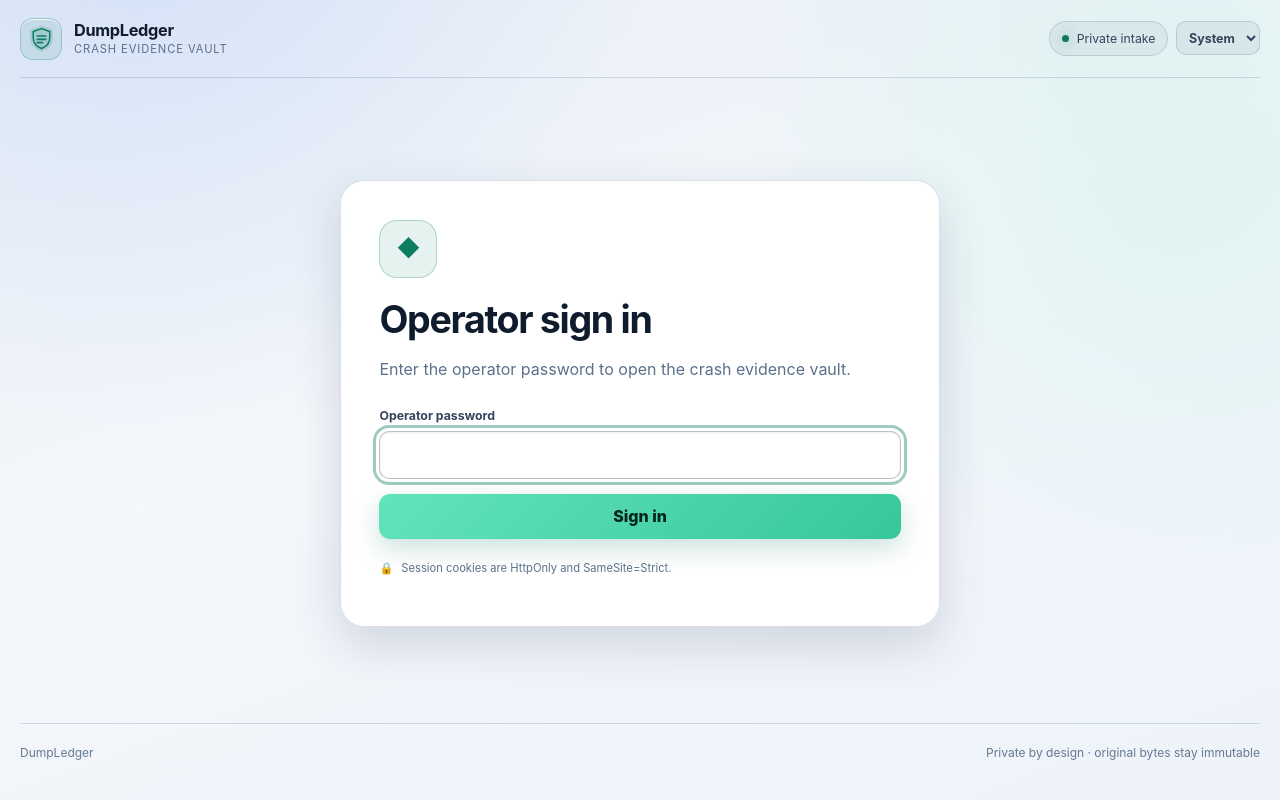
Test: deep links › redirects an anonymous deep link to /login and returns to the original route after sign-in
Expected: the heading "Operator sign in" is shown, x1=379 y1=297 x2=652 y2=342
Type "correct horse battery staple" into the password field labelled "Operator password" at (640, 455), box x1=379 y1=431 x2=901 y2=479
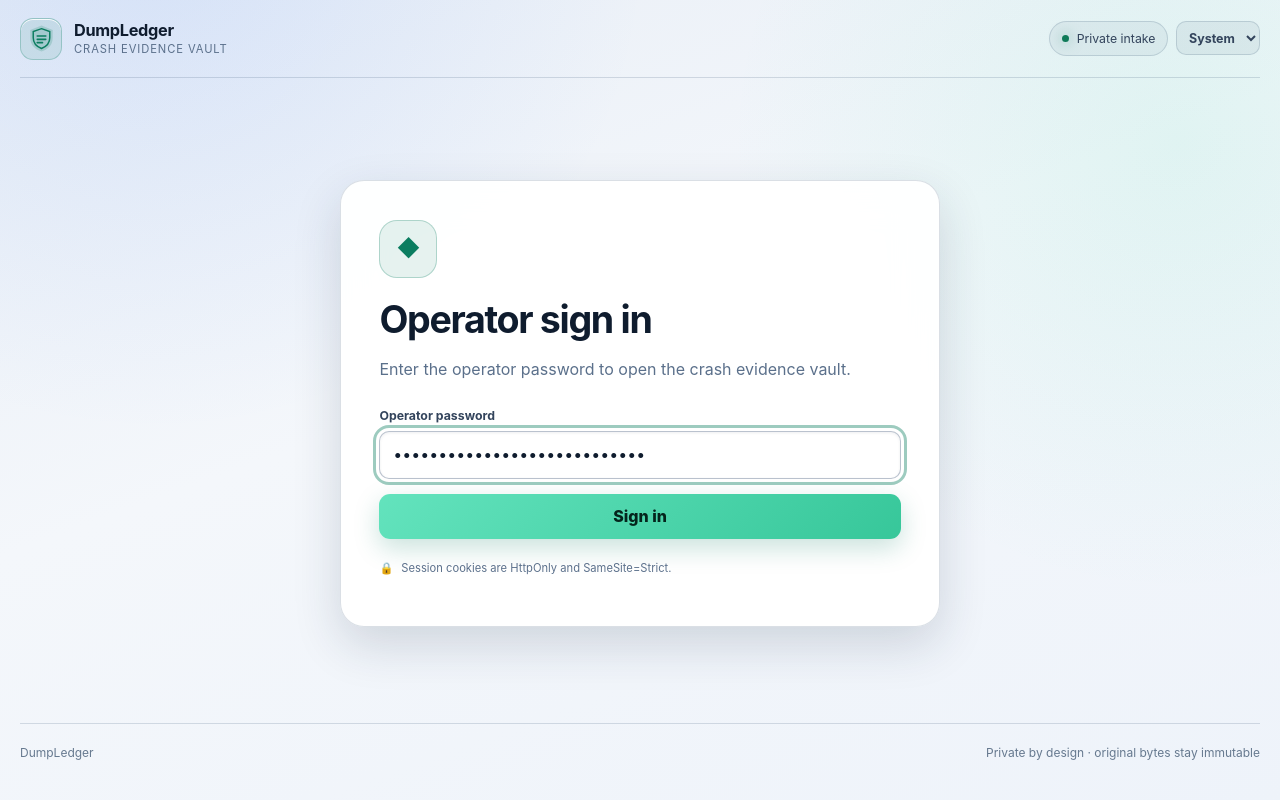
Click the button "Sign in" at (640, 516), box x1=379 y1=494 x2=901 y2=539
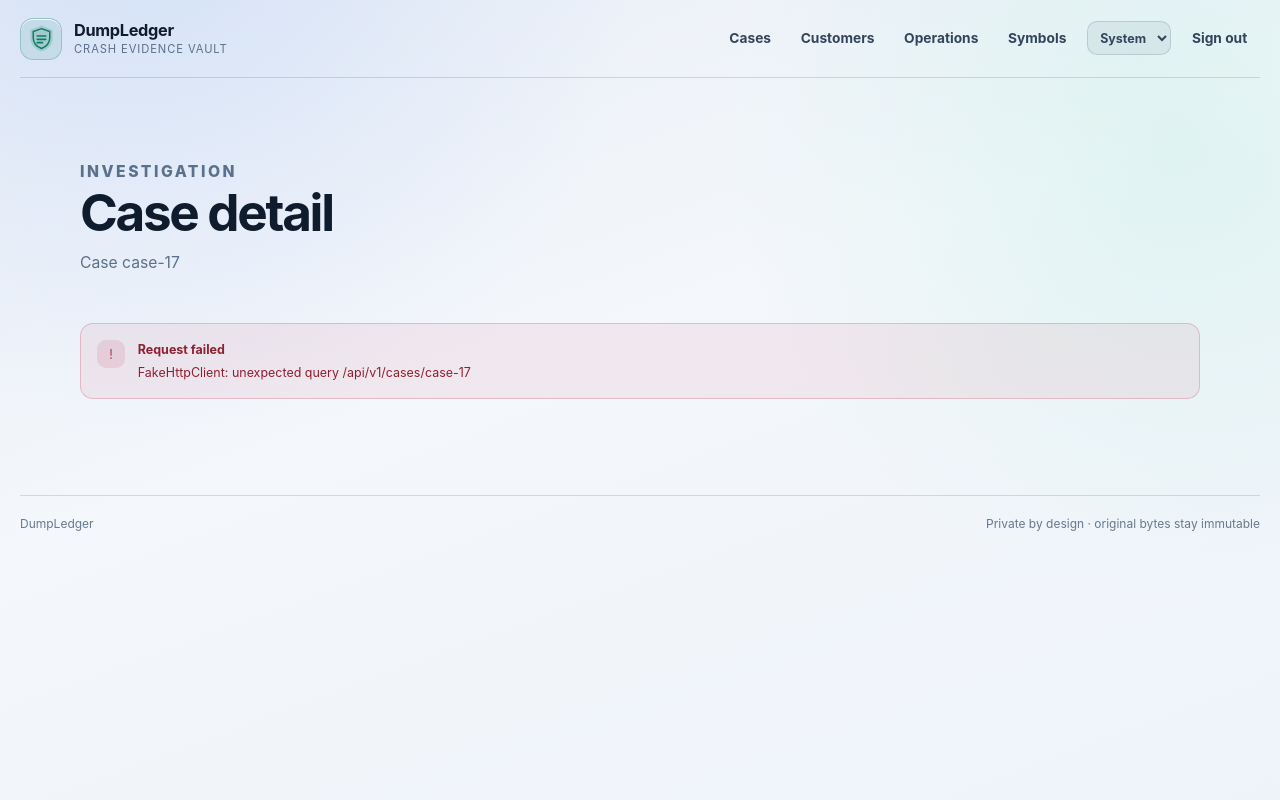
Now the heading "Case detail" is shown, box x1=80 y1=185 x2=333 y2=239
Now the text "Case case-17" is shown, box x1=80 y1=253 x2=180 y2=272
